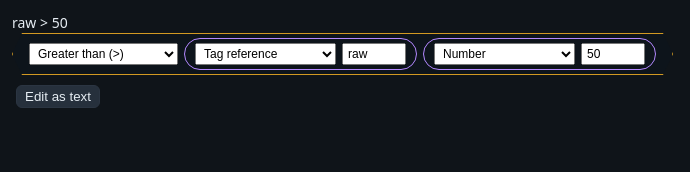
Scenario: ExprTreeEditor › editing a tag leaf's name updates the serialized expr
Replace the text in the field showing "raw" with "temp" at (374, 54), box top-left (342, 43), bottom-right (406, 65)
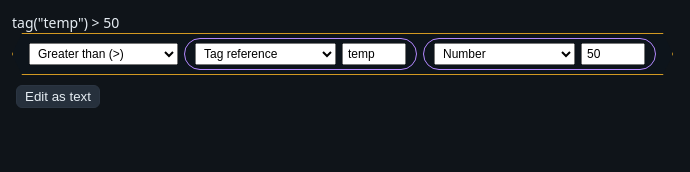
Expected: the text with test id "current-value" reads "tag(\"temp\") > 50", top-left (12, 13), bottom-right (119, 32)
